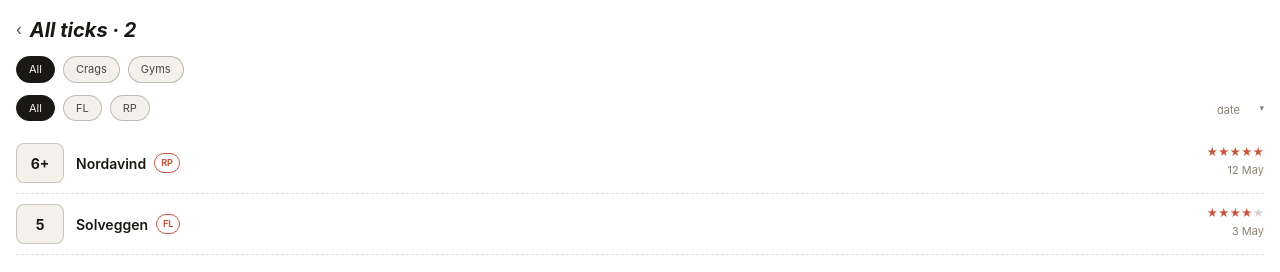
Test case: TicksAllList › offers a crag/gym split only when ticks span both, and filters by it
Click the button "Gyms" at (156,69), box x1=128 y1=56 x2=184 y2=82
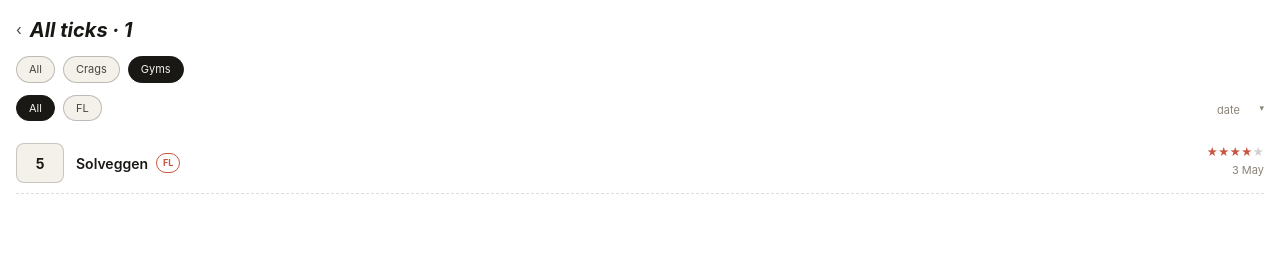
Expected: the text "Solveggen" is shown, x1=76 y1=152 x2=148 y2=174
Expected: the heading "All ticks · 1" is shown, x1=30 y1=16 x2=132 y2=44
Expected: the text "Nordavind" is gone
